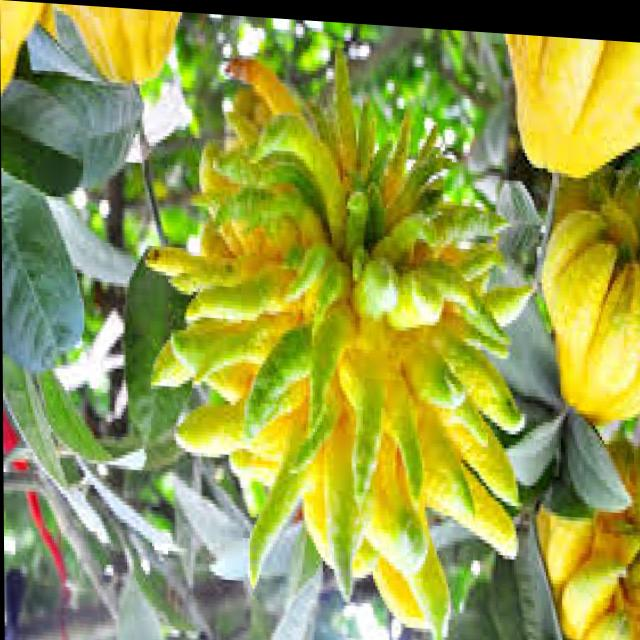PhatThu: (130, 28, 538, 640)
